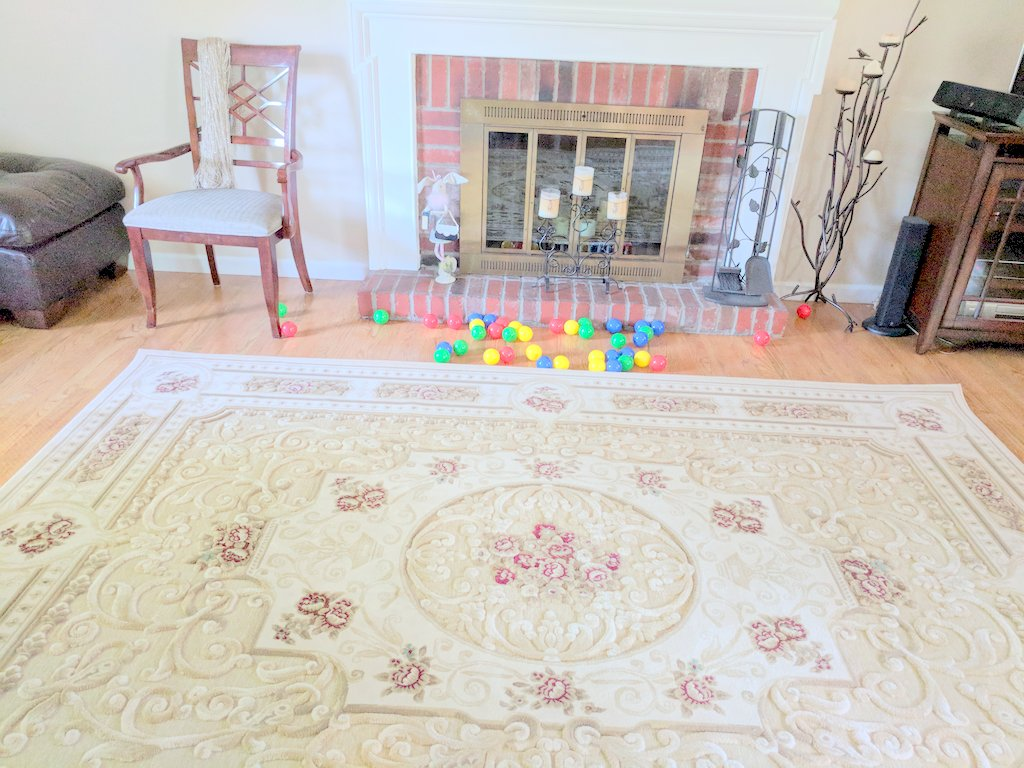ball: (372, 308, 389, 325)
